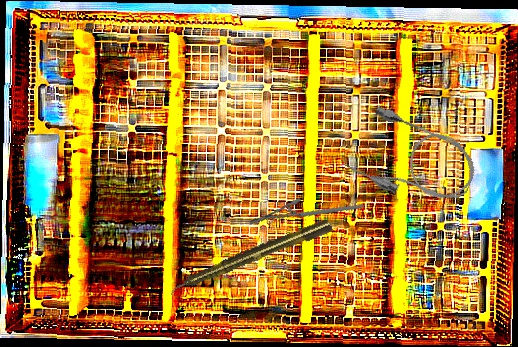Cannula: (343, 101, 485, 220)
Handpiece: (166, 216, 334, 298)
Needle Holder: (248, 183, 364, 246)
